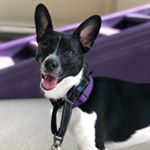puppy: (26, 1, 150, 146)
